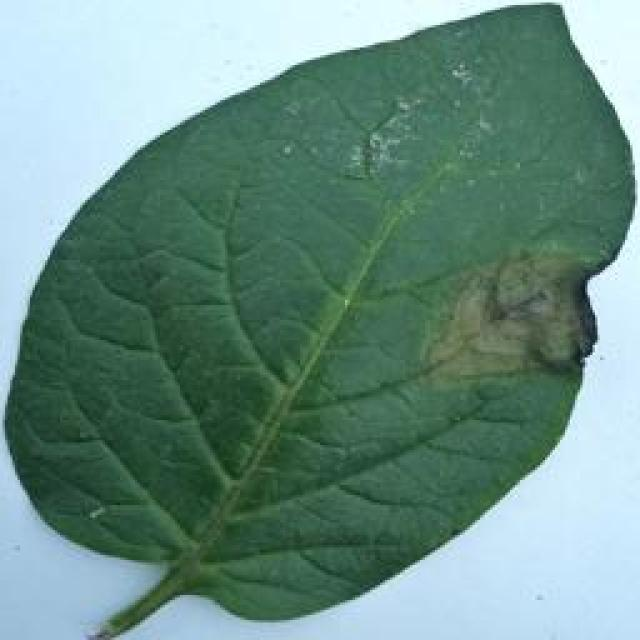Potato_Late_Blight: (13, 4, 622, 628)
